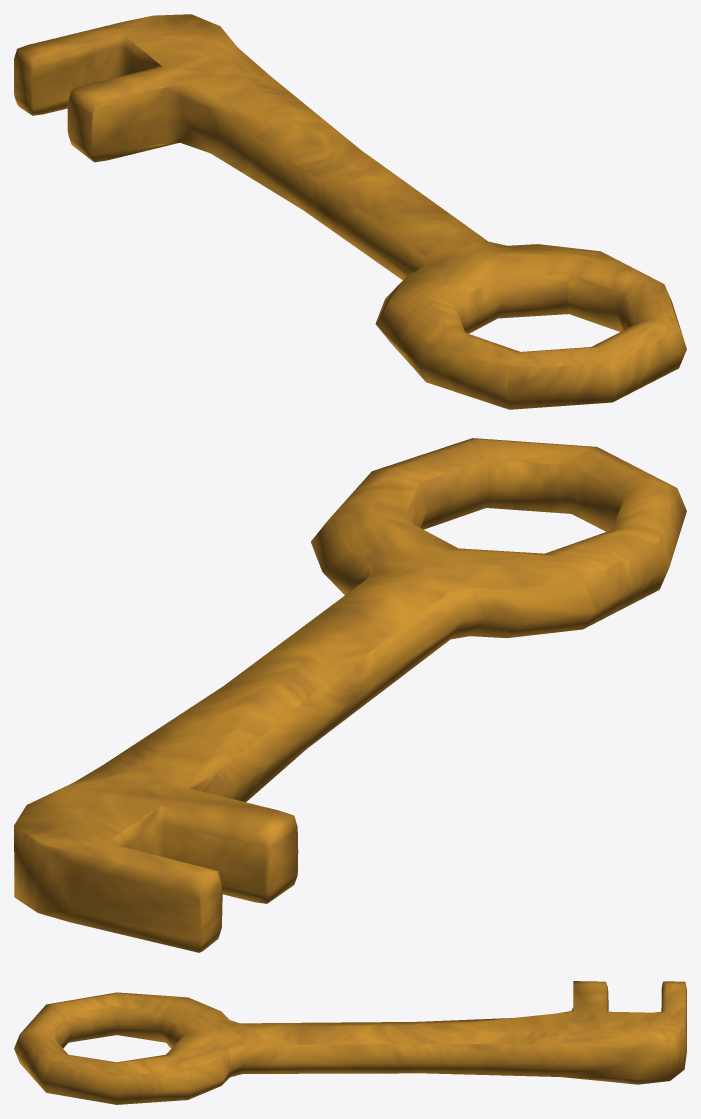
File: key.glb
3 renders of one model, top to bottom at view 1: azimuth 30°, elevation 25°; view 2: azimuth 150°, elevation 25°; view 3: azimuth 270°, elevation 25°, orthographic. The views are drawn at different scales.
Parts seen in each view (by area): view 1: Plane; view 2: Plane; view 3: Plane.
Part boxes in pixels (x1=…): Plane: x1=14, y1=14, x2=686, y2=409; Plane: x1=14, y1=438, x2=686, y2=952; Plane: x1=14, y1=981, x2=686, y2=1104.
Bounding box in the file's own units: 0.1923 × 0.0418 × 0.5897.
1 material, 1 textured.
